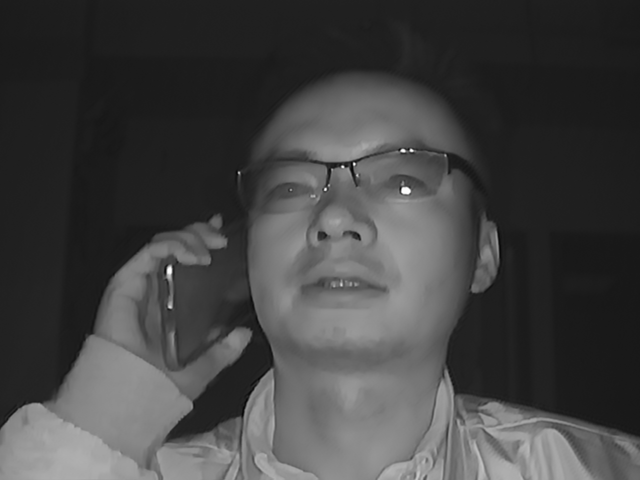hand: (104, 210, 233, 391)
